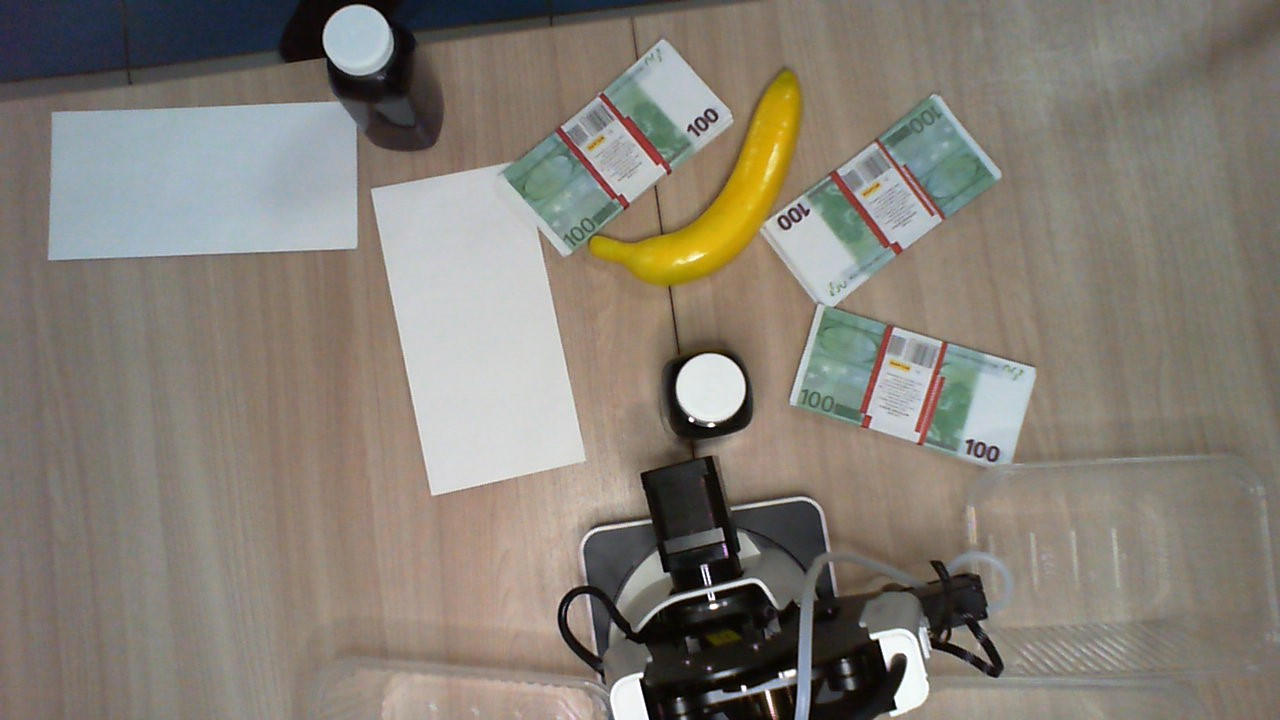banana: (588, 67, 809, 287)
bottle: (323, 4, 416, 96), (659, 348, 754, 434)
convert: (371, 164, 588, 497), (46, 95, 363, 262)
money: (497, 36, 735, 258), (763, 91, 1001, 310), (786, 305, 1036, 474)
